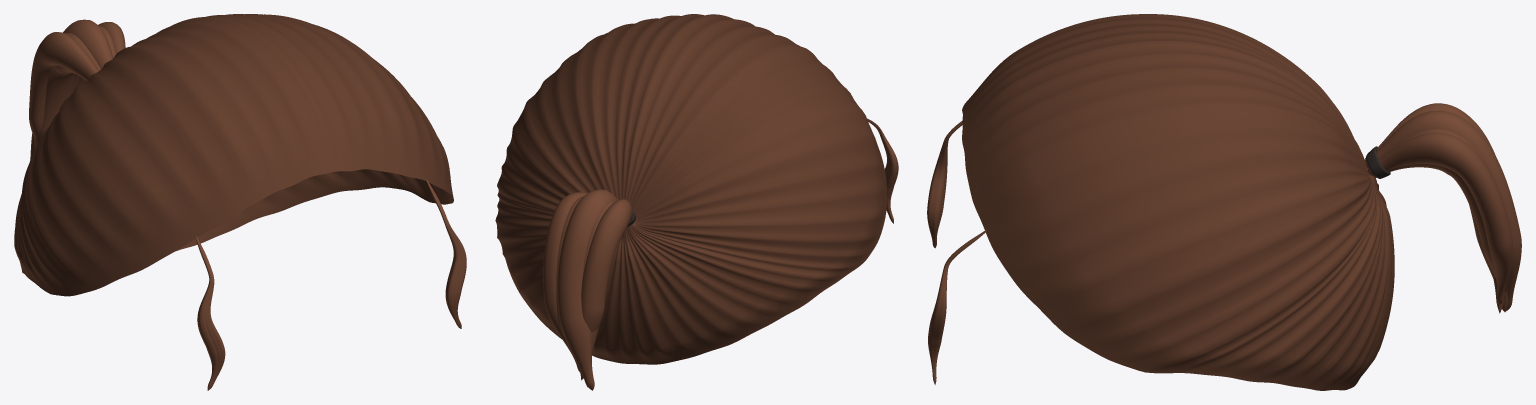
Rendered from ponytail-cap-default.glb.
3 renders of one model, left to right at view 1: azimuth 30°, elevation 25°; view 2: azimuth 150°, elevation 25°; view 3: azimuth 270°, elevation 25°, orthographic. The views are drawn at different scales.
Visible parts, largest first — view 1: Hair / swept roots220, Hair / rounded tail220 0, Hair / adjustable front216 -1, Hair / rounded tail220 1, Hair / adjustable front216 1, Hair / rounded tail220 2, Hair / rounded tail220 4; view 2: Hair / swept roots220, Hair / rounded tail220 2, Hair / rounded tail220 0, Hair / rounded tail220 4, Hair / adjustable front216 -1, Hair / rounded tail220 3, Hair / rounded tail220 1; view 3: Hair / swept roots220, Hair / rounded tail220 4, Hair / rounded tail220 2, Hair / rounded tail220 3, Hair / adjustable front216 1, Hair / adjustable front216 -1, Hair / rounded tail220 0.
Part boxes in pixels (x1=…): Hair / swept roots220: x1=14, y1=14, x2=453, y2=296; Hair / rounded tail220 0: x1=29, y1=32, x2=98, y2=139; Hair / adjustable front216 -1: x1=195, y1=236, x2=225, y2=390; Hair / rounded tail220 1: x1=34, y1=33, x2=100, y2=147; Hair / adjustable front216 1: x1=426, y1=180, x2=466, y2=328; Hair / rounded tail220 2: x1=30, y1=19, x2=113, y2=158; Hair / rounded tail220 4: x1=98, y1=22, x2=125, y2=53; Hair / swept roots220: x1=495, y1=14, x2=887, y2=364; Hair / rounded tail220 2: x1=557, y1=189, x2=617, y2=390; Hair / rounded tail220 0: x1=580, y1=199, x2=632, y2=380; Hair / rounded tail220 4: x1=543, y1=192, x2=587, y2=372; Hair / adjustable front216 -1: x1=867, y1=118, x2=898, y2=223; Hair / rounded tail220 3: x1=556, y1=196, x2=583, y2=336; Hair / rounded tail220 1: x1=583, y1=200, x2=615, y2=387; Hair / swept roots220: x1=962, y1=14, x2=1394, y2=390; Hair / rounded tail220 4: x1=1367, y1=132, x2=1512, y2=304; Hair / rounded tail220 2: x1=1365, y1=110, x2=1521, y2=311; Hair / rounded tail220 3: x1=1367, y1=129, x2=1513, y2=293; Hair / adjustable front216 1: x1=928, y1=229, x2=986, y2=384; Hair / adjustable front216 -1: x1=927, y1=121, x2=962, y2=248; Hair / rounded tail220 0: x1=1365, y1=103, x2=1504, y2=313.
Bounding box in the file's own units: 0.779 × 0.579 × 0.9414.
